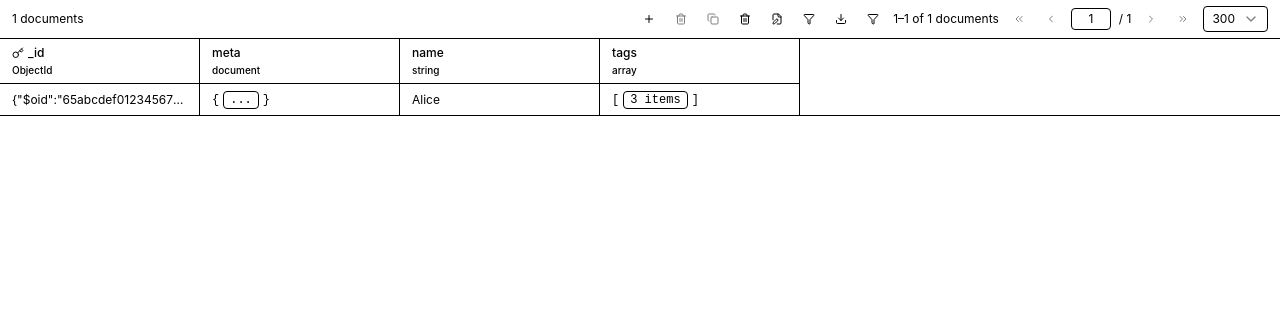
Test: DocumentDataGrid — nested inline tree (Sprint 341 Option D) › auto-closes the inline tree when the underlying row at rowIdx changes (e.g. sort)
This screenshot has width=1280, height=332.
Check: the text "Alice" is shown, box [412, 92, 440, 108]
Click the button named "Expand meta": (241,100) [223, 90, 259, 108]
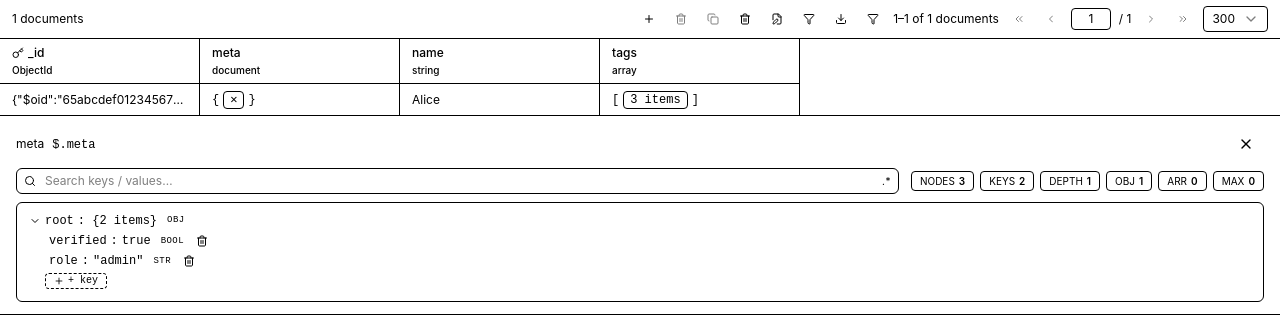
Check: the row with test id "nested-detail-row-0" is shown
Click the column heading "name string": (500,62) [400, 39, 600, 84]
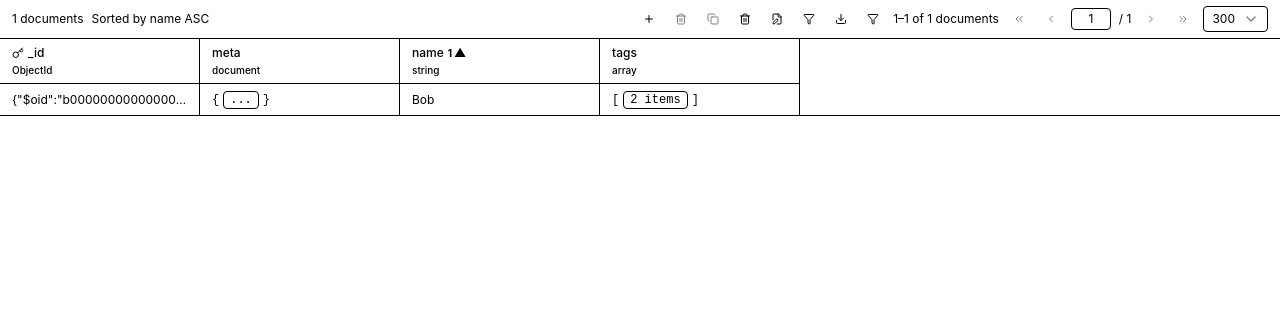
Check: the text "Bob" is shown, box [412, 92, 434, 108]
Check: the row with test id "nested-detail-row-0" is gone
